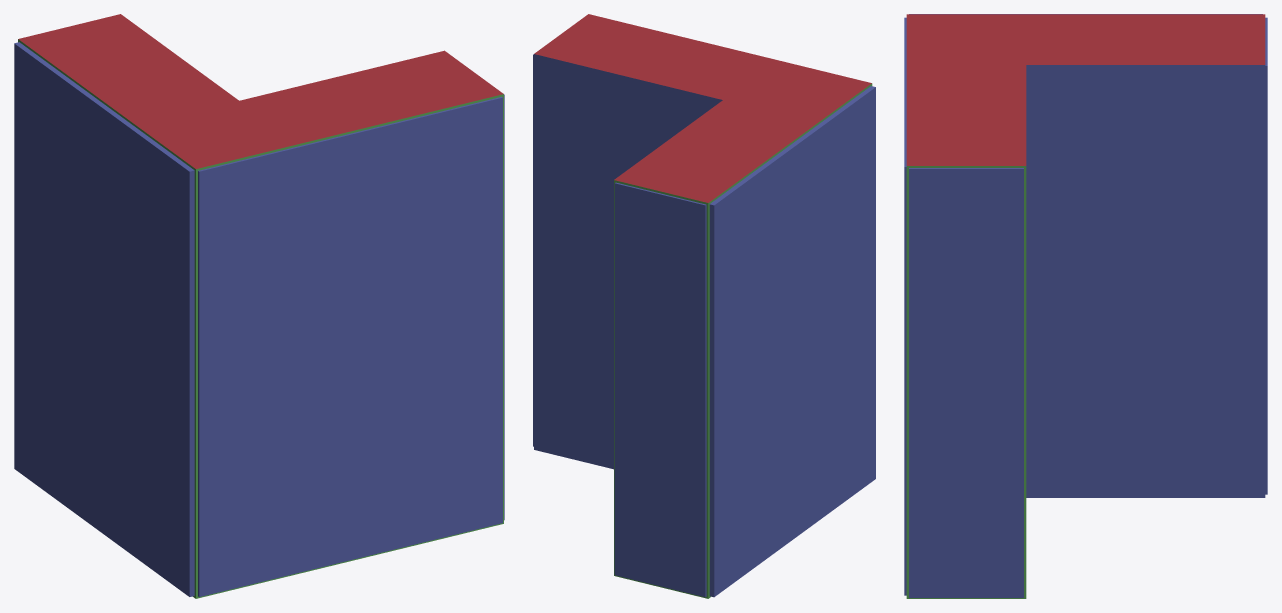
File: SM_Corner_Inner_01.fbx
3 renders of one model, left to right at view 1: azimuth 30°, elevation 25°; view 2: azimuth 150°, elevation 25°; view 3: azimuth 270°, elevation 25°, orthographic. The views are drawn at different scales.
Visible parts, largest first — view 1: SM_Corner_Inner_01; view 2: SM_Corner_Inner_01; view 3: SM_Corner_Inner_01.
Part boxes in pixels (bbox=[...]): SM_Corner_Inner_01: bbox=[14, 14, 504, 598]; SM_Corner_Inner_01: bbox=[533, 14, 875, 598]; SM_Corner_Inner_01: bbox=[904, 14, 1267, 598].
Size of the model in its own units: 307 by 400 by 304.
